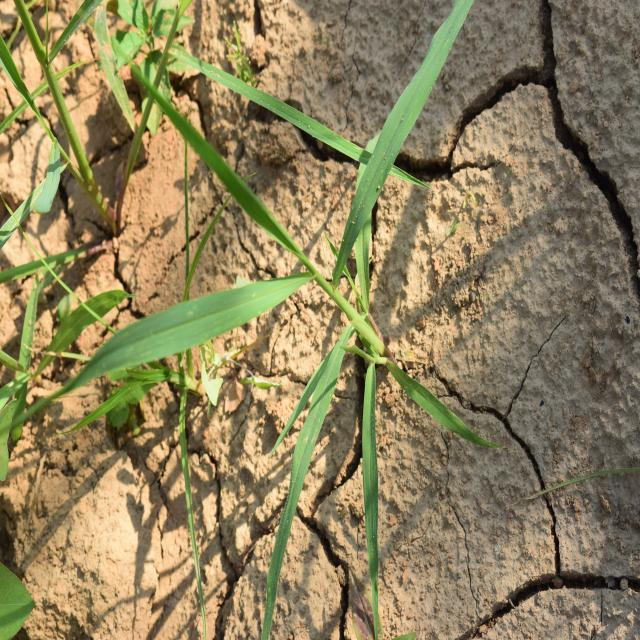green_foxtail: (119, 94, 419, 550)
